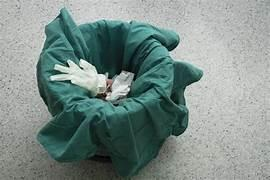Glove: (50, 59, 106, 96), (105, 71, 133, 103)
